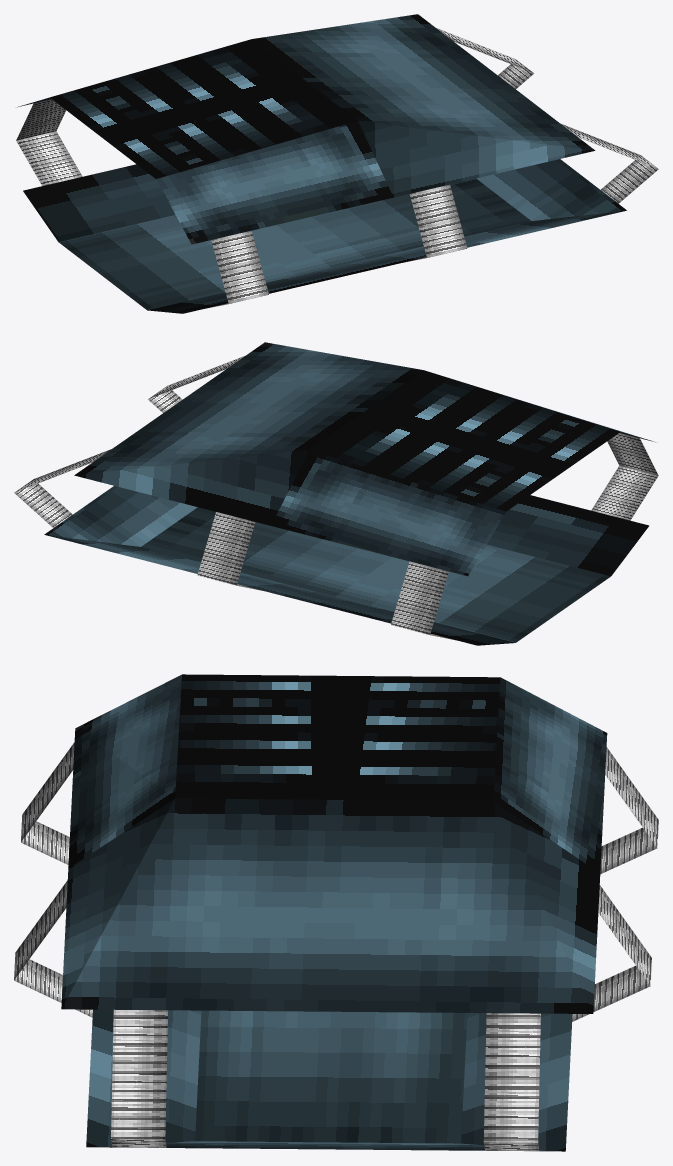
The model's file is primary_099.glb.
3 views of the same model, one above another, from view 1: azimuth 30°, elevation 25°; view 2: azimuth 150°, elevation 25°; view 3: azimuth 270°, elevation 25° (orthographic). The views are drawn at different scales.
Parts seen in each view (by area): view 1: Object; view 2: Object; view 3: Object.
Boxes of the visible parts, <box> form: Object: <box>16,14,658,313</box>; Object: <box>14,342,658,645</box>; Object: <box>14,674,658,1151</box>.
Size of the model in its own units: 0.6801 by 0.2002 by 0.5429.
Materials: 3 (3 with a texture image).
